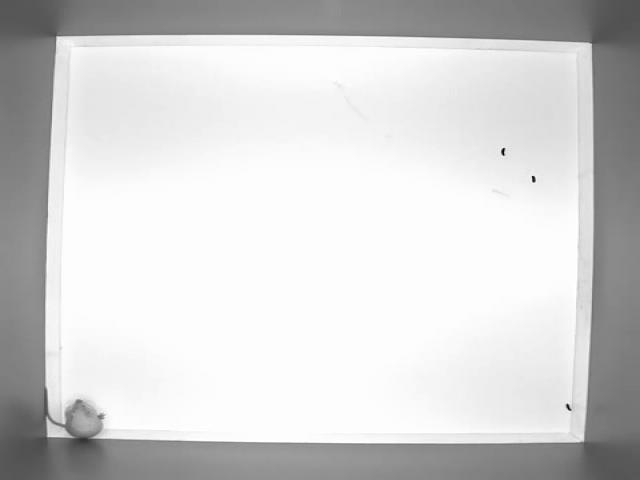Tikus: (38, 382, 118, 445)
